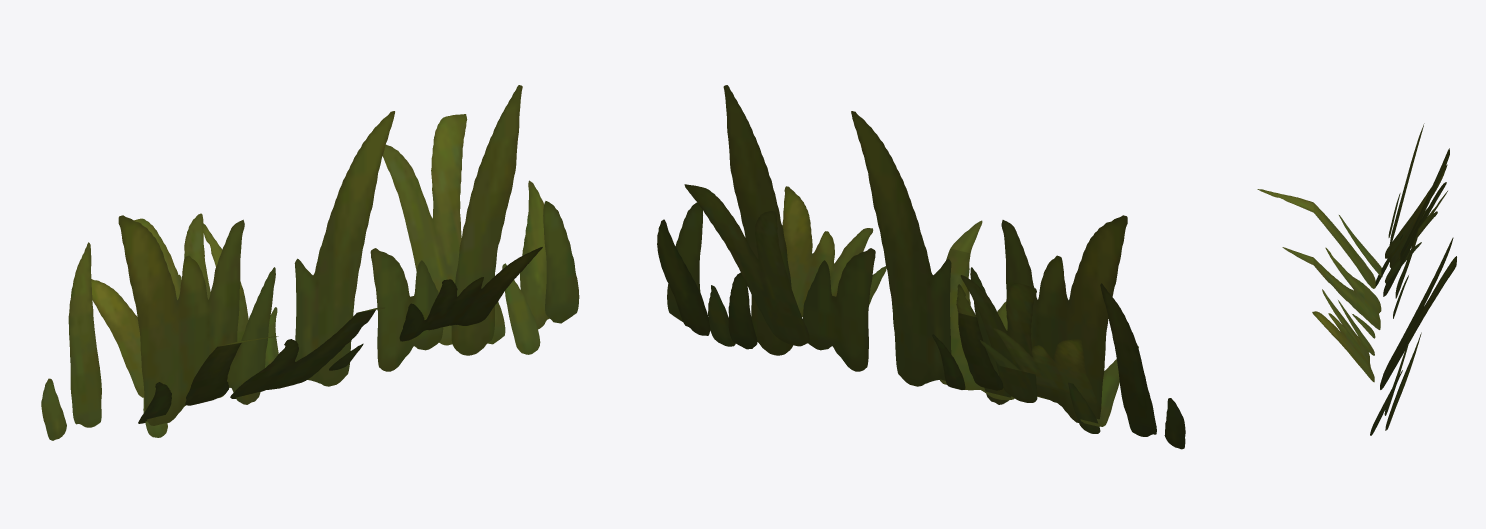
The model's file is grass_06.fbx.
The picture shows the model from 3 angles, left to right: view 1: azimuth 30°, elevation 25°; view 2: azimuth 150°, elevation 25°; view 3: azimuth 270°, elevation 25°; orthographic projection. The views are drawn at different scales.
Visible parts, largest first — view 1: obj0.056; view 2: obj0.056; view 3: obj0.056.
Part boxes in pixels (<box>): obj0.056: <box>41,85,579,440</box>; obj0.056: <box>657,85,1185,449</box>; obj0.056: <box>1257,123,1456,435</box>.
Size of the model in its own units: 1.52 by 1 by 0.6924.
